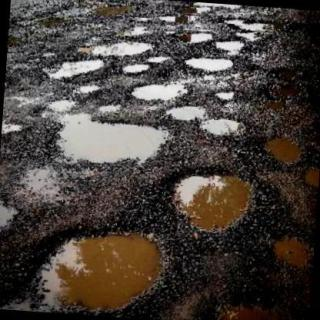pothole: (35, 232, 163, 313), (35, 101, 168, 164), (172, 174, 255, 232), (166, 106, 238, 135), (216, 303, 300, 320), (132, 82, 191, 103), (275, 237, 313, 269), (79, 42, 155, 58), (47, 61, 105, 81), (266, 137, 302, 165), (220, 19, 265, 41), (185, 58, 233, 72), (178, 31, 215, 44), (215, 42, 245, 56), (122, 63, 152, 75), (305, 167, 320, 190), (0, 201, 12, 228), (98, 104, 122, 116), (76, 85, 101, 95), (3, 124, 23, 135), (215, 91, 235, 101), (148, 56, 171, 63)
